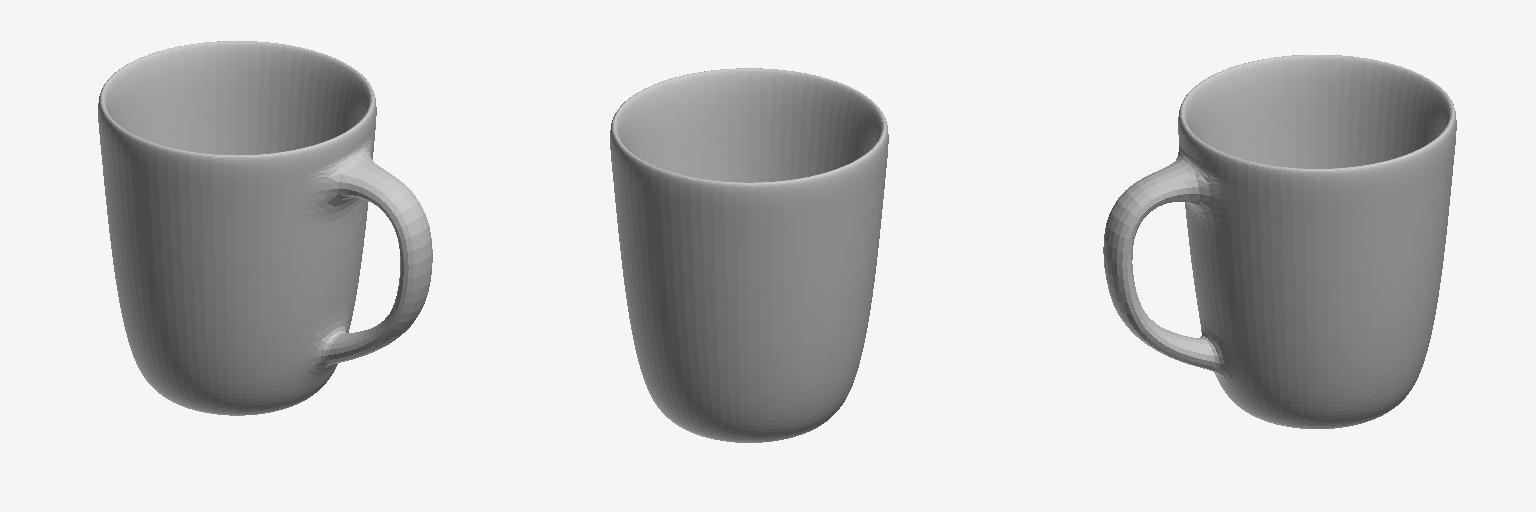
File: mug-two.obj
3 renders of one model, left to right at view 1: azimuth 30°, elevation 25°; view 2: azimuth 150°, elevation 25°; view 3: azimuth 270°, elevation 25°, orthographic.
Parts seen in each view (by area): view 1: Mug; view 2: Mug; view 3: Mug.
Boxes of the visible parts, x1,y1,x2,y2 form: Mug: [98, 41, 432, 415]; Mug: [610, 68, 888, 442]; Mug: [1103, 55, 1456, 428].
Bounding box in the file's own units: 0.3464 × 0.3953 × 0.4393.